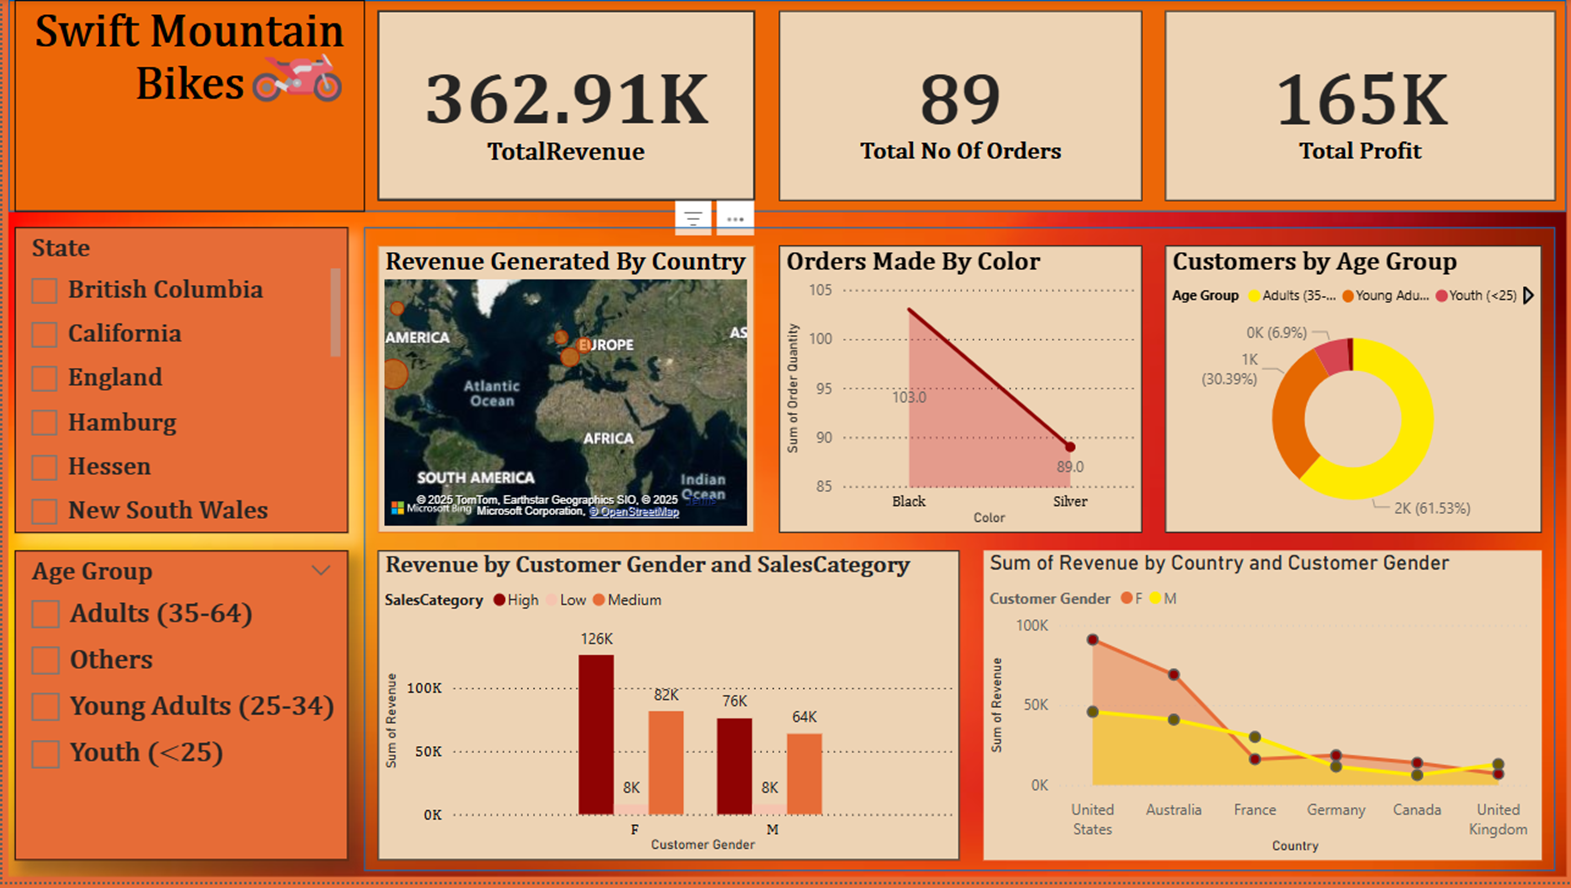

What the dashboard file says about the page in this screenshot:
{"tool":"powerbi","page":{"name":"Page 1","canvas":[1280,720],"ordinal":0},"visuals":[{"type":"image","box":[0,0,1280.3,720.4],"z":0},{"type":"shape","box":[5.5,0,1270.7,172.9],"z":1000},{"type":"image","box":[199,22,82.3,82.3],"z":2000},{"type":"textbox","box":[9.6,0,285.4,172.9],"z":3000},{"type":"card","fields":{"Values":["Bike Sales.TotalRevenue"]},"box":[306,8.2,307.4,155.1],"z":4000},{"type":"card","fields":{"Values":["Bike Sales.Total No Of Orders"]},"box":[632.6,8.2,296.4,155.1],"z":5000},{"type":"card","fields":{"Values":["Bike Sales.Total Profit"]},"box":[948.2,8.2,318.4,155.1],"z":6000},{"type":"shape","box":[295,185.2,971.5,525.6],"z":7000},{"type":"map","title":"Revenue Generated By Country","fields":{"Category":["Bike Sales.Country"],"Size":["Sum(Bike Sales.Revenue)"]},"box":[306,200.3,307.4,234.6],"z":8000},{"type":"stackedAreaChart","title":"Orders Made By Color","fields":{"Category":["Bike Sales.Color"],"Y":["Sum(Bike Sales.Order Quantity)"]},"box":[632.6,200.3,296.4,234.6],"z":9000},{"type":"donutChart","title":"Customers by Age Group","fields":{"Category":["Bike Sales.Age Group"],"Y":["Sum(Bike Sales.Customer Age)"]},"box":[948.2,200.3,307.4,234.6],"z":10000},{"type":"clusteredColumnChart","title":"Revenue by Customer Gender and SalesCategory","fields":{"Category":["Bike Sales.Customer Gender"],"Series":["Bike Sales.SalesCategory"],"Y":["Sum(Bike Sales.Revenue)"]},"box":[306,448.7,474.8,252.5],"z":11000},{"type":"areaChart","fields":{"Category":["Bike Sales.Country"],"Series":["Bike Sales.Customer Gender"],"Y":["Sum(Bike Sales.Revenue)"]},"box":[800,448.7,455.6,252.5],"z":12000},{"type":"slicer","fields":{"Values":["Bike Sales.State"]},"box":[9.6,185.2,271.7,249.7],"z":13000},{"type":"slicer","fields":{"Values":["Bike Sales.Age Group"]},"box":[9.6,448.7,271.7,252.5],"z":14000}]}

Visuals, with their boxes in screenshot pixels (x1, y1, x2, y2), scaled from the page's 1280x720 canvas onto the 1571x888 screenshot:
image: (left=0, top=0, right=1570, bottom=887)
shape: (left=7, top=0, right=1566, bottom=213)
image: (left=244, top=27, right=345, bottom=129)
textbox: (left=12, top=0, right=362, bottom=213)
card - Bike Sales.TotalRevenue: (left=376, top=10, right=753, bottom=201)
card - Bike Sales.Total No Of Orders: (left=776, top=10, right=1140, bottom=201)
card - Bike Sales.Total Profit: (left=1164, top=10, right=1555, bottom=201)
shape: (left=362, top=228, right=1554, bottom=877)
"Revenue Generated By Country" map: (left=376, top=247, right=753, bottom=536)
"Orders Made By Color" stackedAreaChart: (left=776, top=247, right=1140, bottom=536)
"Customers by Age Group" donutChart: (left=1164, top=247, right=1541, bottom=536)
"Revenue by Customer Gender and SalesCategory" clusteredColumnChart: (left=376, top=553, right=958, bottom=865)
areaChart - Bike Sales.Country x Bike Sales.Customer Gender: (left=982, top=553, right=1541, bottom=865)
slicer - Bike Sales.State: (left=12, top=228, right=345, bottom=536)
slicer - Bike Sales.Age Group: (left=12, top=553, right=345, bottom=865)
